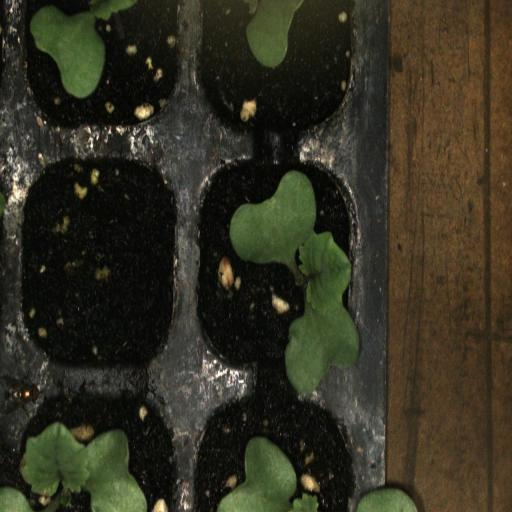Folha: (30, 0, 138, 99), (217, 437, 318, 512), (245, 0, 304, 69)
Germinacao: (188, 146, 368, 382), (8, 377, 189, 512)
